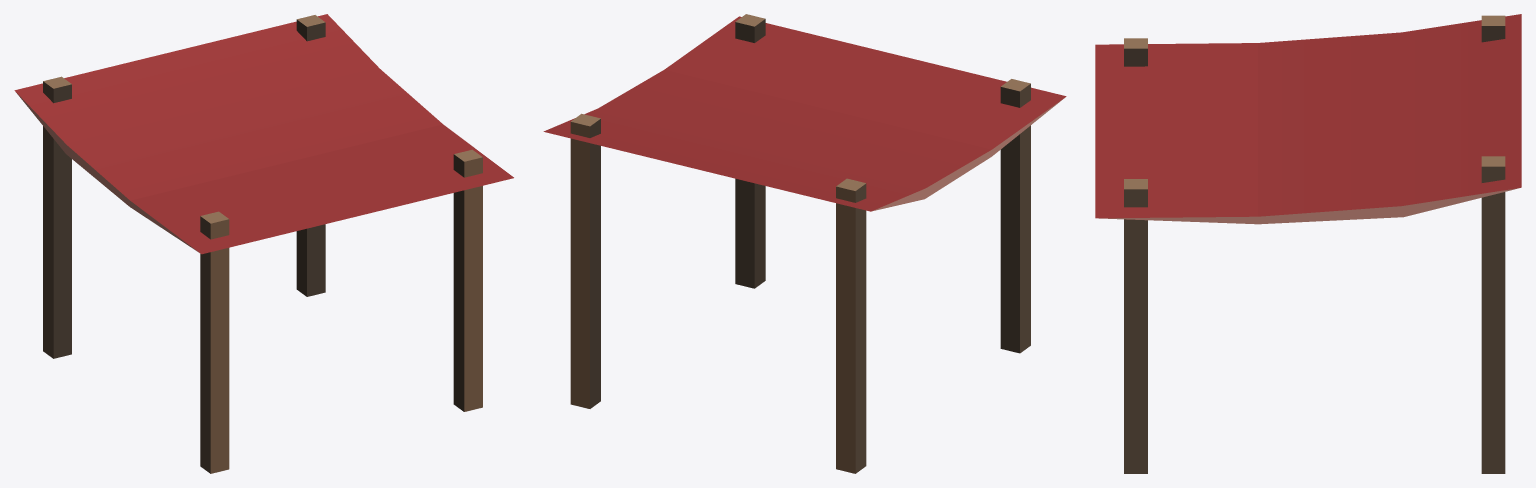
The model's file is TB_D_Prop_StoreTent_Small_A.FBX.
The picture shows the model from 3 angles, left to right: view 1: azimuth 30°, elevation 25°; view 2: azimuth 150°, elevation 25°; view 3: azimuth 270°, elevation 25°; orthographic projection. The views are drawn at different scales.
Visible parts, largest first — view 1: TB_D_Prop_StoreTent_Small_A; view 2: TB_D_Prop_StoreTent_Small_A; view 3: TB_D_Prop_StoreTent_Small_A.
Part boxes in pixels (box(x1,y1,x2,y2)): TB_D_Prop_StoreTent_Small_A: box(14, 14, 513, 473); TB_D_Prop_StoreTent_Small_A: box(543, 14, 1066, 473); TB_D_Prop_StoreTent_Small_A: box(1095, 14, 1521, 473).
Size of the model in its own units: 2.33 by 1.92 by 2.41.
